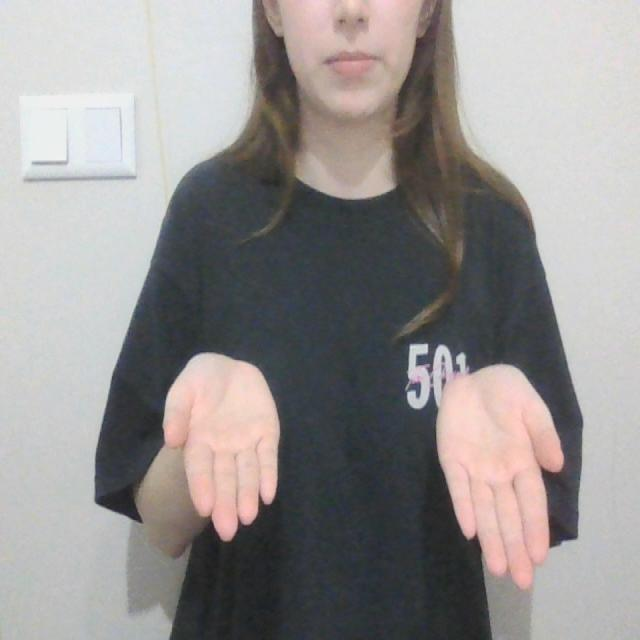Evet: (160, 344, 567, 594)
